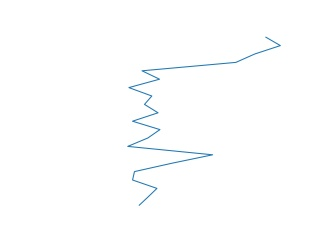crevasseRiverChannelBar: (122, 35, 287, 210)
